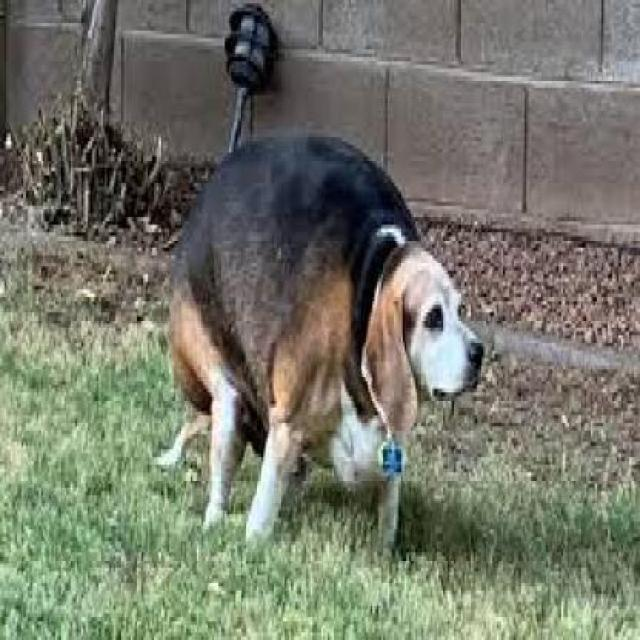Dog: (154, 127, 486, 558)
